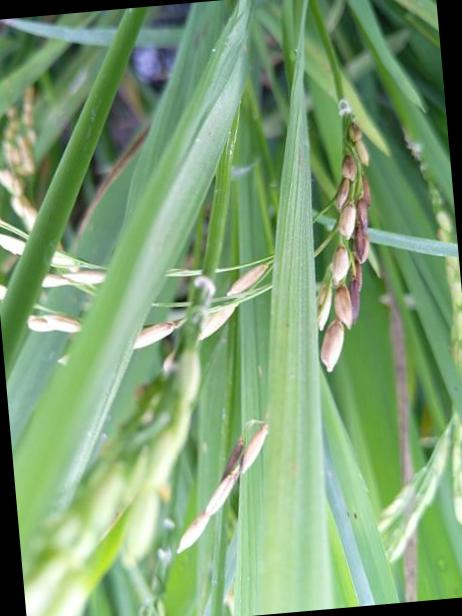Panicle Blight: (317, 118, 373, 360), (179, 420, 268, 544), (201, 255, 270, 335), (134, 310, 185, 346)
